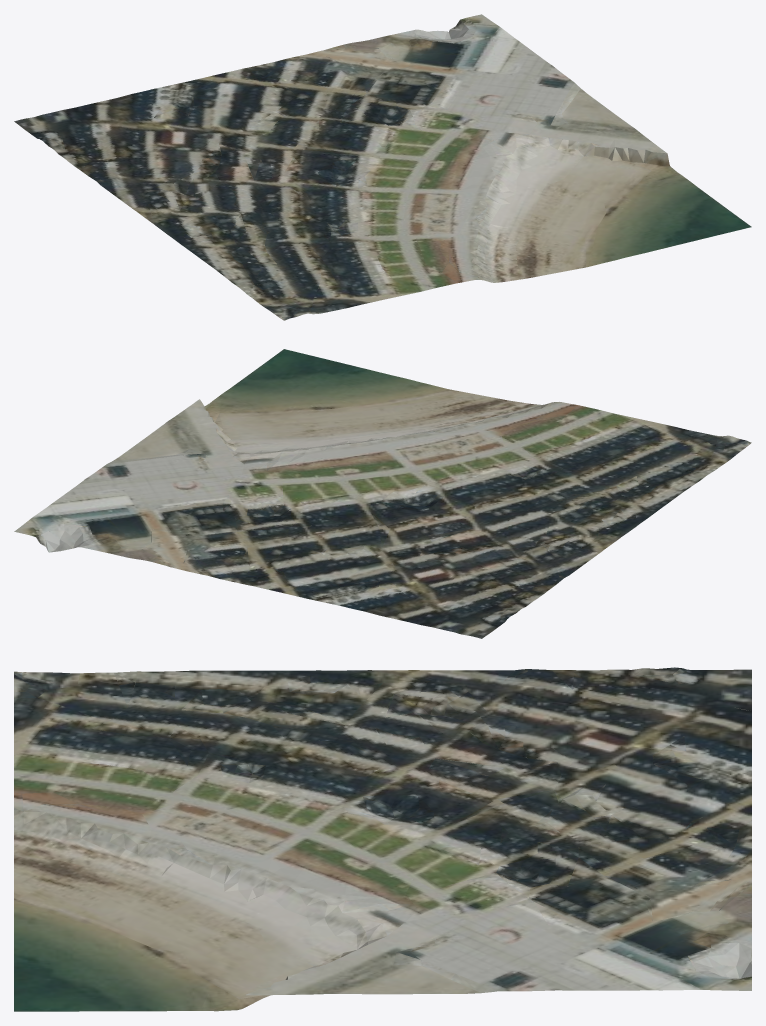
3 renders of one model, top to bottom at view 1: azimuth 30°, elevation 25°; view 2: azimuth 150°, elevation 25°; view 3: azimuth 270°, elevation 25°, orthographic. The views are drawn at different scales.
Bounding box in the file's own units: 209 × 10.48 × 209.
3 materials, 3 textured.
